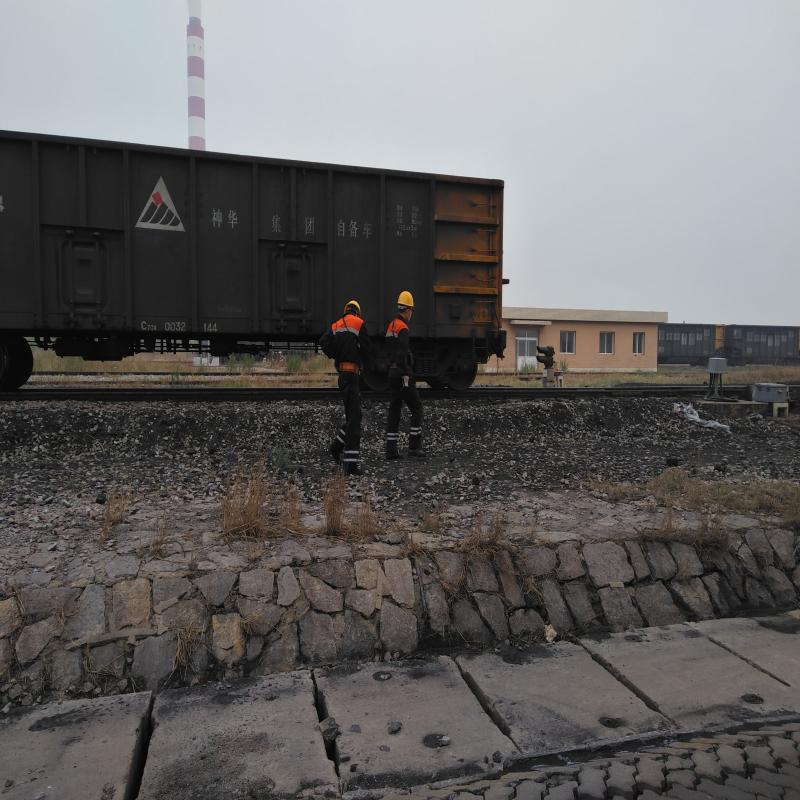train: (1, 143, 283, 386)
